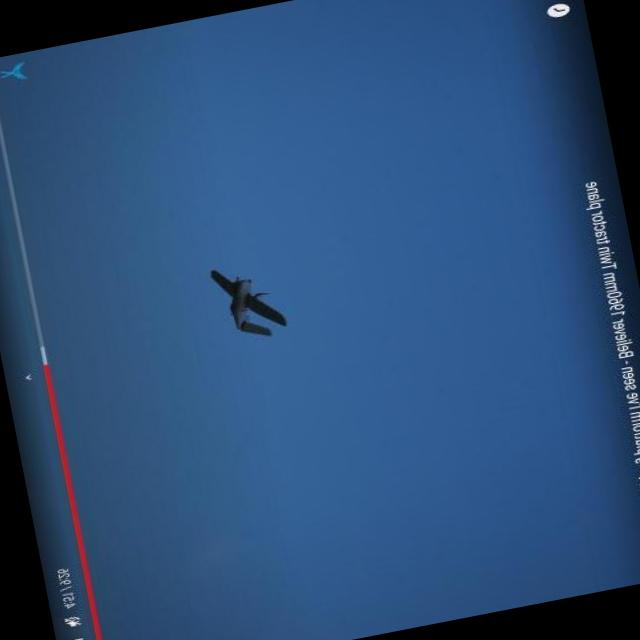UAV: (197, 249, 304, 353)
